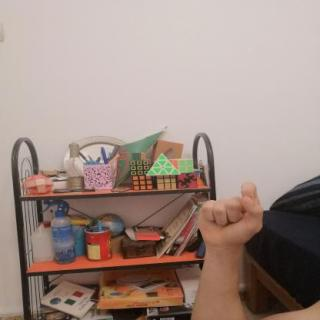FAA: (188, 177, 271, 255)
